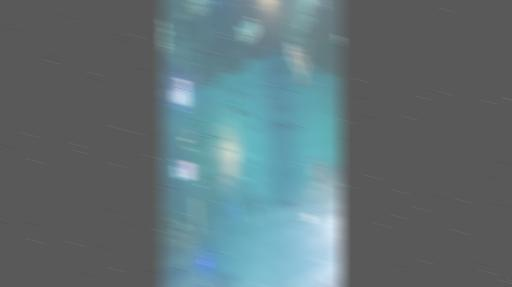Fish: (287, 42, 308, 88), (237, 19, 258, 42), (318, 166, 329, 188), (308, 178, 319, 199), (249, 200, 258, 224), (310, 156, 319, 177), (253, 193, 264, 209), (332, 163, 341, 181), (329, 178, 338, 195), (248, 199, 257, 213), (279, 203, 296, 209), (302, 214, 313, 222), (323, 277, 332, 286), (251, 214, 258, 225), (247, 94, 254, 105), (274, 124, 292, 128), (227, 88, 234, 98), (246, 108, 253, 118), (280, 200, 296, 204), (334, 34, 341, 43), (250, 123, 257, 132), (235, 107, 242, 115), (267, 97, 271, 111), (222, 104, 231, 108), (210, 0, 216, 5), (224, 114, 231, 118), (322, 0, 326, 7), (235, 106, 238, 114), (239, 90, 242, 96), (334, 283, 338, 286), (246, 88, 247, 95)
